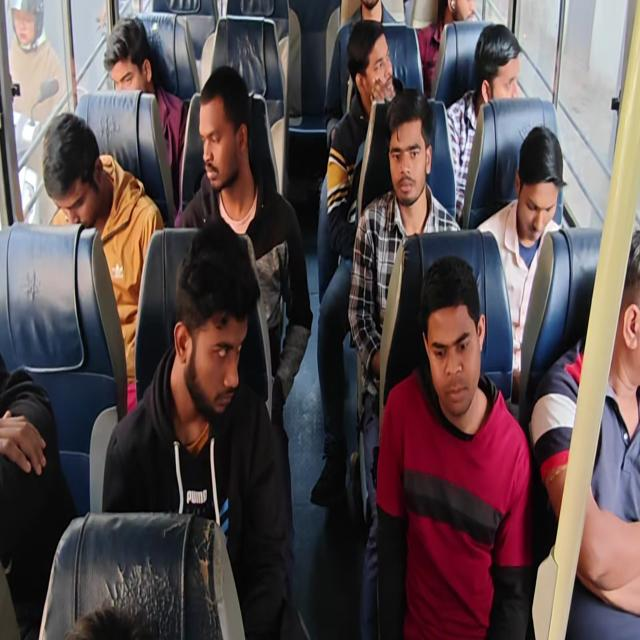person: (170, 222, 265, 444), (410, 248, 494, 424), (509, 122, 581, 248), (36, 107, 106, 221), (381, 90, 443, 216), (194, 64, 255, 185), (469, 12, 535, 116), (346, 24, 411, 122), (605, 219, 640, 397), (99, 12, 160, 101), (434, 0, 499, 67), (59, 598, 154, 640), (354, 0, 391, 22)
